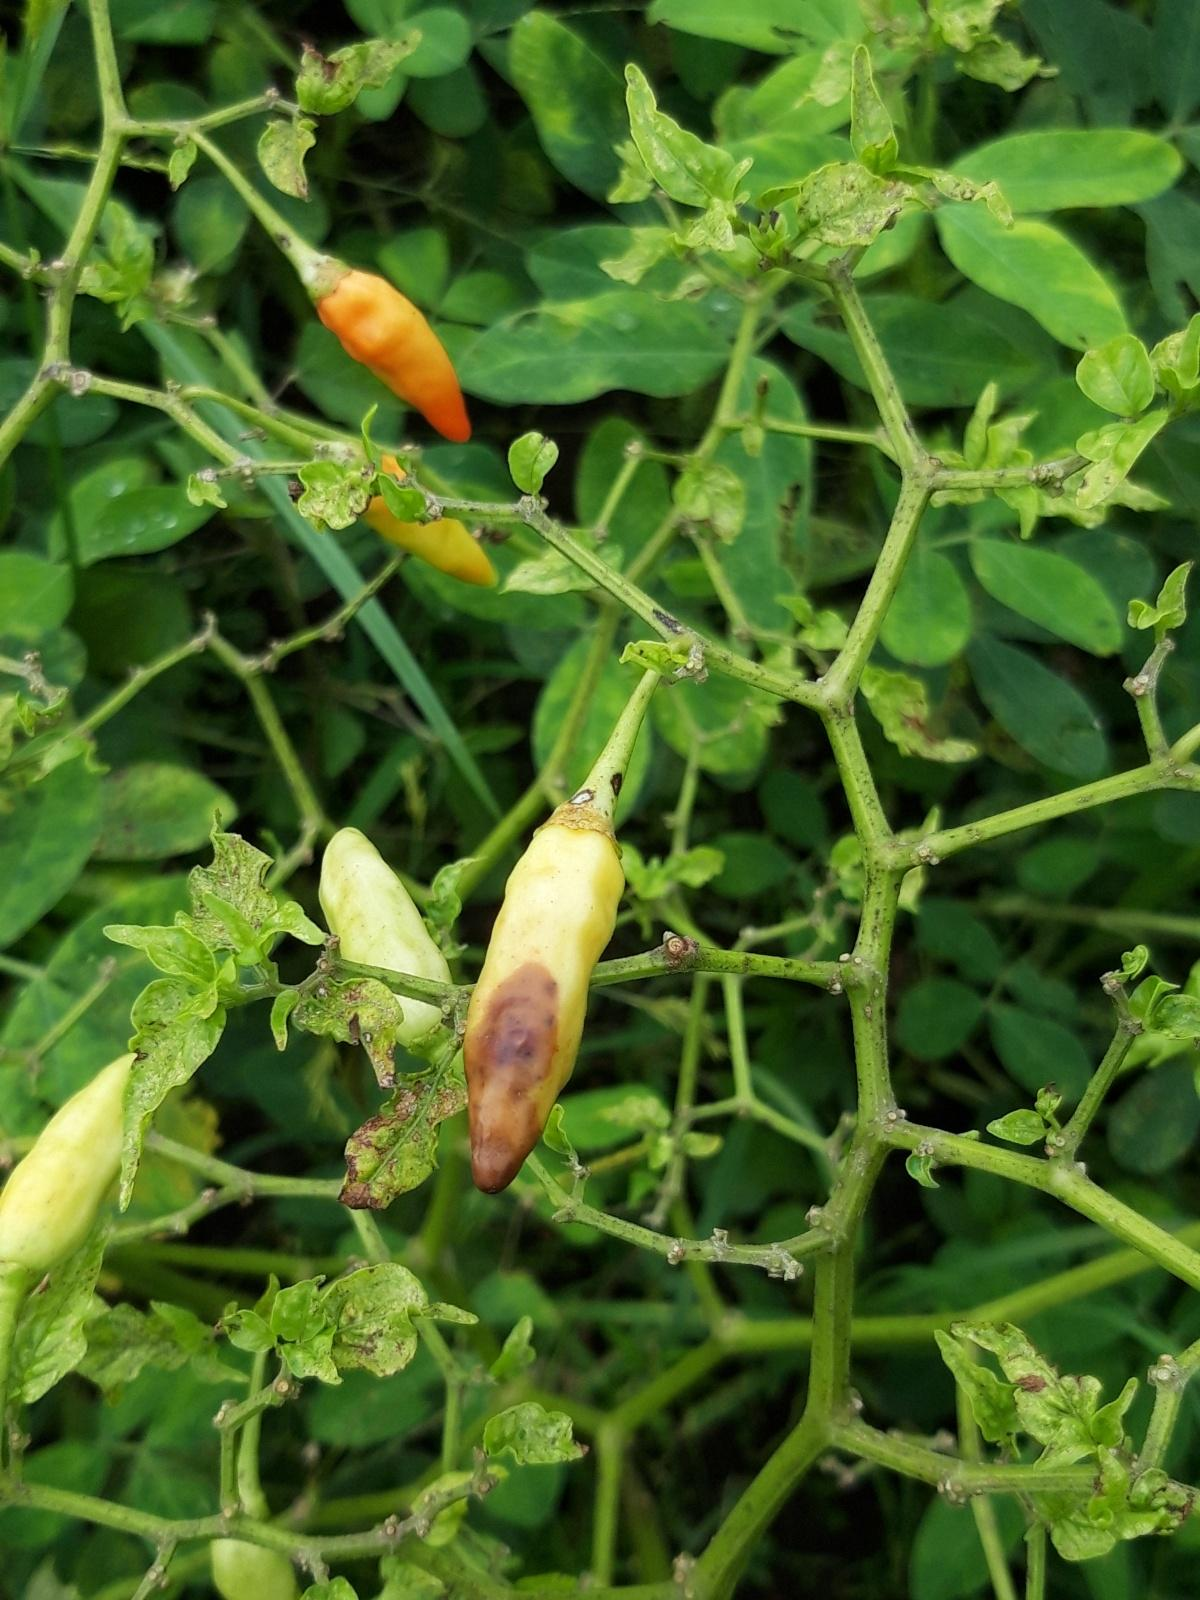cabai_normal: (310, 826, 461, 1060), (301, 249, 475, 447), (0, 1052, 147, 1272)
lalat_buah: (458, 805, 624, 1198)
